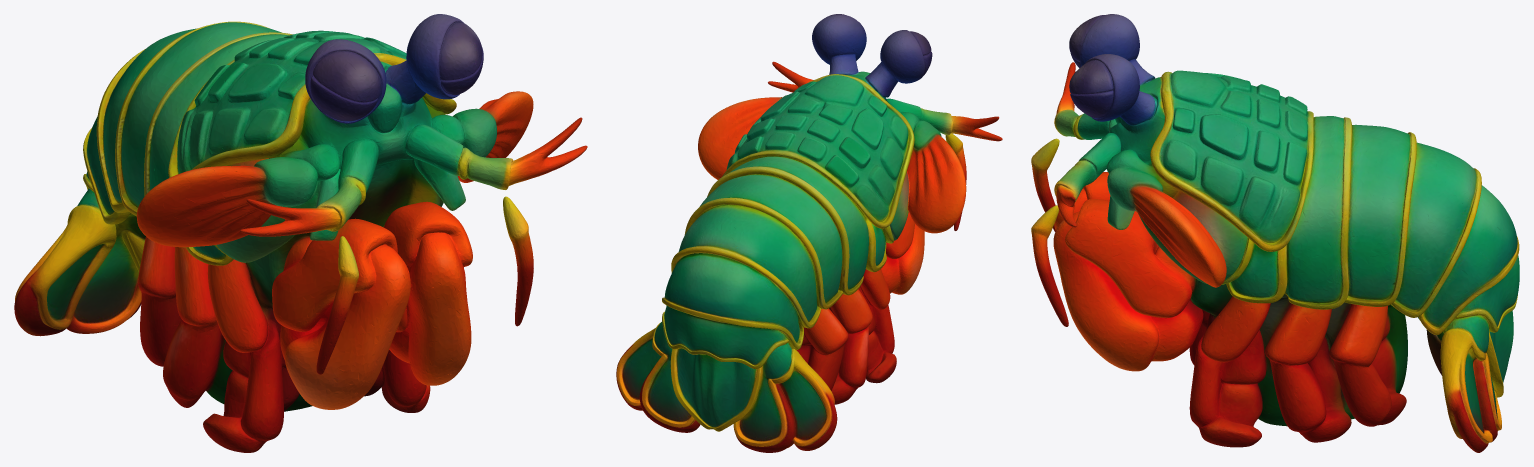
Rendered from mantis.glb.
3 views of the same model, side by side, from view 1: azimuth 30°, elevation 25°; view 2: azimuth 150°, elevation 25°; view 3: azimuth 270°, elevation 25° (orthographic). The views are drawn at different scales.
Bounding box in the file's own units: 1.47 × 1.61 × 1.9.
Materials: 1 (1 with a texture image).
